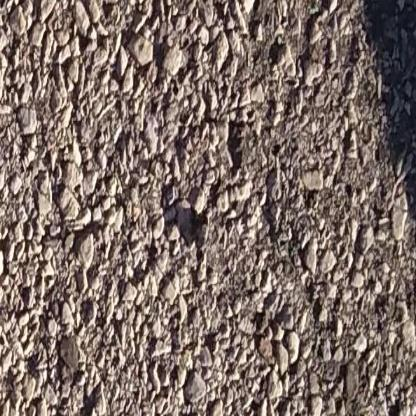Cracks: (328, 404, 416, 416)
